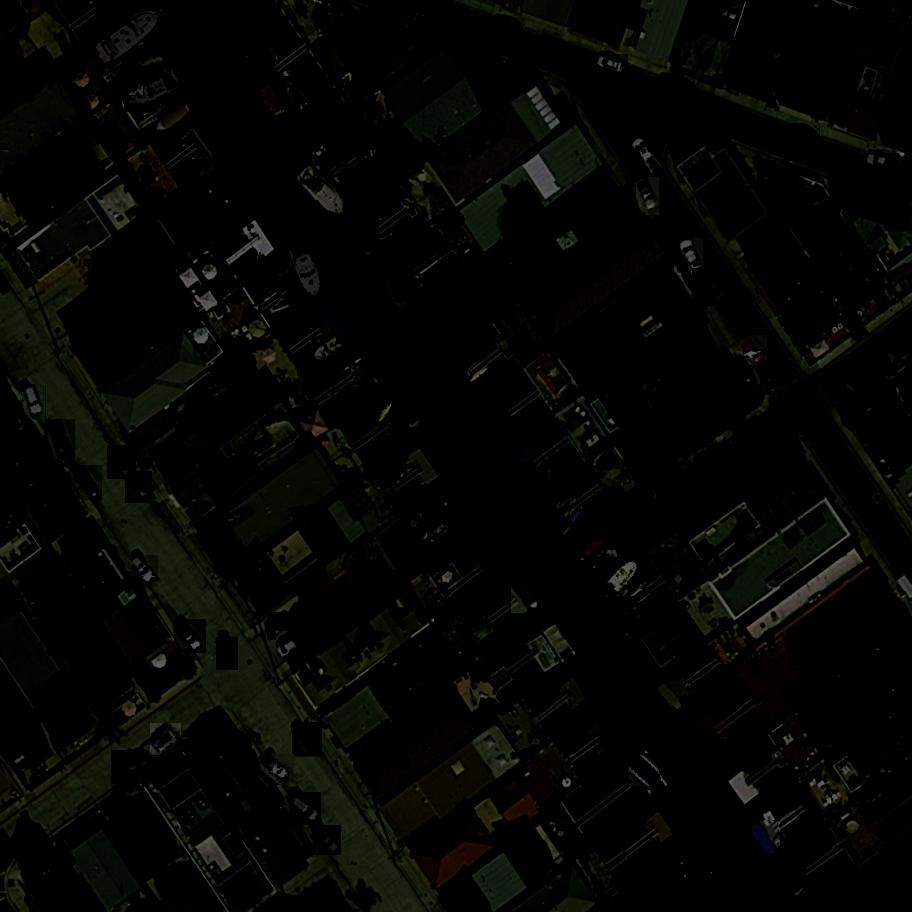large-vehicle: (837, 365, 873, 404)
ship: (93, 1, 172, 70), (295, 166, 356, 224), (122, 63, 190, 112), (287, 240, 331, 307), (588, 592, 640, 643), (770, 859, 808, 902), (251, 77, 288, 121), (390, 385, 423, 433), (536, 499, 575, 539), (409, 320, 450, 358), (153, 100, 195, 137), (607, 558, 645, 597), (567, 662, 601, 705), (382, 271, 413, 317), (238, 29, 277, 65), (278, 77, 314, 116), (746, 821, 782, 860), (418, 514, 456, 549), (654, 681, 689, 717), (306, 134, 343, 167), (353, 376, 384, 415), (511, 578, 544, 614), (113, 63, 146, 97), (629, 756, 664, 788), (353, 226, 380, 265), (311, 337, 345, 367), (683, 730, 716, 759), (253, 261, 292, 284), (139, 47, 171, 73), (323, 307, 348, 340), (405, 505, 433, 534), (601, 715, 624, 749), (195, 159, 220, 189), (582, 537, 608, 560), (595, 550, 620, 564)
small-vehicle: (691, 268, 732, 306), (630, 134, 666, 175), (45, 419, 76, 466), (111, 751, 153, 784), (173, 619, 208, 654), (288, 793, 323, 826), (291, 722, 323, 758), (150, 723, 183, 757), (73, 465, 104, 501), (261, 753, 295, 784), (677, 238, 704, 276), (107, 446, 136, 481), (739, 441, 769, 474), (738, 335, 769, 366), (123, 471, 153, 503), (130, 555, 160, 587), (276, 631, 308, 661), (829, 180, 859, 212), (866, 348, 900, 376), (637, 177, 662, 215), (492, 16, 525, 44), (312, 826, 343, 855), (22, 385, 47, 419), (267, 613, 298, 640), (737, 418, 767, 445), (791, 123, 821, 150), (217, 636, 239, 671), (757, 160, 779, 193), (596, 55, 630, 76), (760, 365, 783, 395), (866, 154, 901, 173), (659, 82, 694, 97)
